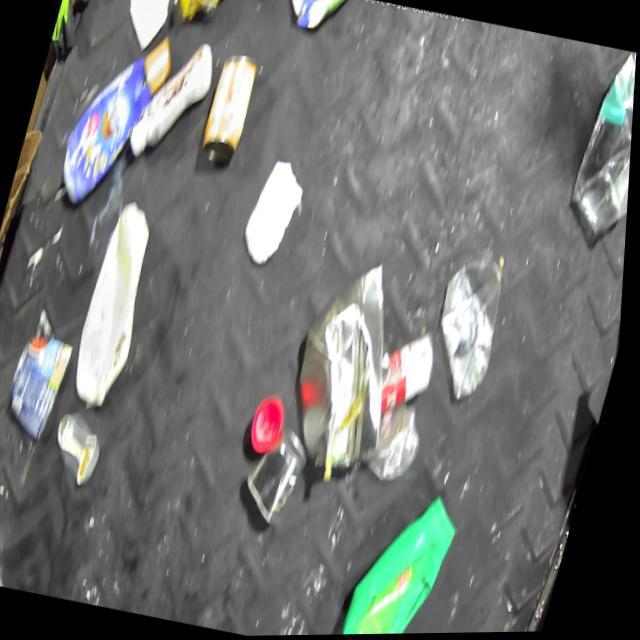can: (275, 250, 428, 482), (1, 306, 86, 443), (240, 421, 320, 530), (196, 48, 264, 165), (372, 323, 448, 422), (47, 405, 115, 489)
milk_jug: (66, 198, 171, 410)
non_white_jug: (53, 26, 180, 215), (342, 479, 471, 636)
plastic_bottle: (561, 48, 637, 246)
